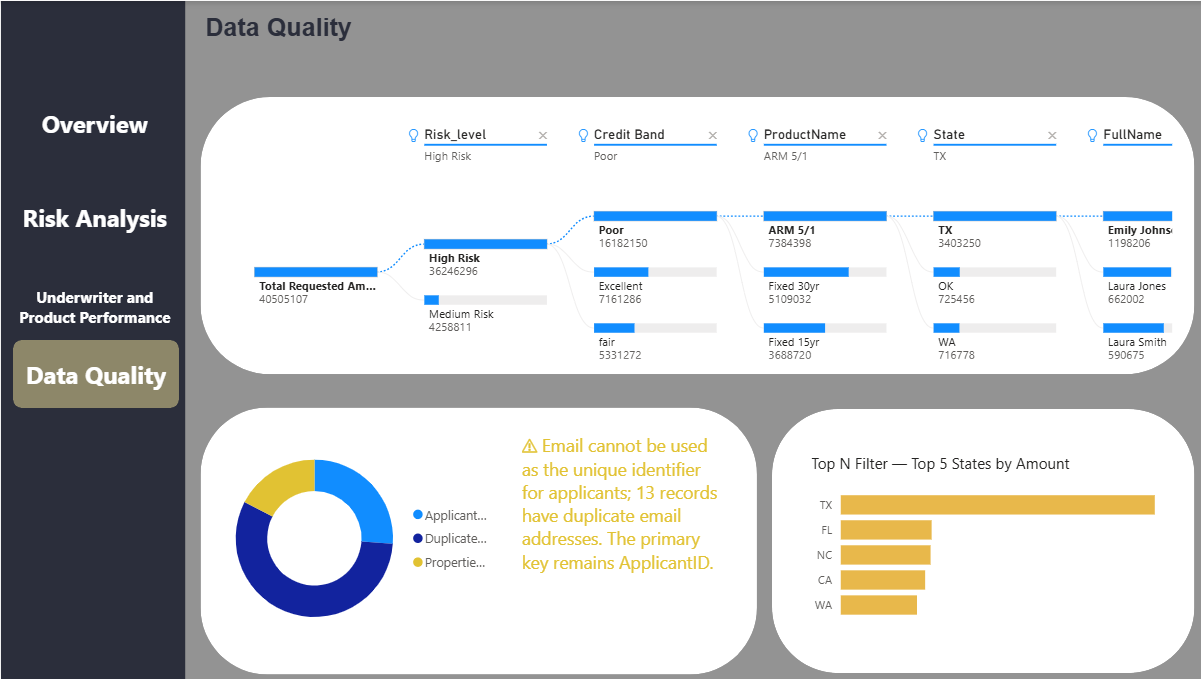

Layout of this report page (visuals, bound fields, positions):
{"tool":"powerbi","page":{"name":"Data Quality","canvas":[1280,720],"ordinal":3},"visuals":[{"type":"shape","box":[0,0,195.6,720.5],"z":0},{"type":"actionButton","box":[11.1,101.1,176.7,55.6],"z":1000},{"type":"actionButton","box":[11.7,201.7,176.7,55],"z":2000},{"type":"actionButton","box":[11.7,288.3,176.7,71.7],"z":3000},{"type":"textbox","title":"fdg","box":[212,4,496,44],"z":4000},{"type":"shape","box":[211.6,431.1,590.1,283.1],"z":5000},{"type":"actionButton","box":[12,360,176,72],"z":6000},{"type":"donutChart","fields":{"Y":["data_quality.Applicants Without Applications","data_quality.Duplicate Emails","data_quality.Properties Without Applications"]},"box":[222.7,427.9,308.6,283.1],"z":7000},{"type":"textbox","box":[547.2,453.3,227.5,230.6],"z":8000},{"type":"shape","box":[818,432,448,280],"z":9000},{"type":"clusteredBarChart","title":"Top N Filter — Top 5 States by Amount","fields":{"Category":["DimProperties.State"],"Y":["Mesures.Total Requested Amount"]},"box":[854,478,374,188],"z":10000},{"type":"shape","box":[212,102,1054,294],"z":11000},{"type":"decompositionTreeVisual","fields":{"Analyze":["Mesures.Total Requested Amount"],"ExplainBy":["FactApplications.Risk_level","DimApplicants.Credit Band","DimProducts.ProductName","DimProperties.State","DimApplicants.FullName"]},"box":[238,116,1008,268],"z":12000}]}

Visuals, with their boxes in screenshot pixels (x1, y1, x2, y2), scaled from the page's 1280x720 canvas onto the 1201x679 screenshot:
shape: 0:0:184:678
actionButton: 10:95:176:148
actionButton: 11:190:177:242
actionButton: 11:272:177:340
"fdg" textbox: 199:4:664:45
shape: 199:407:752:674
actionButton: 11:340:176:407
donutChart - data_quality.Applicants Without Applications x data_quality.Duplicate Emails: 209:404:499:671
textbox: 513:427:727:645
shape: 768:407:1188:671
"Top N Filter — Top 5 States by Amount" clusteredBarChart: 801:451:1152:628
shape: 199:96:1188:373
decompositionTreeVisual - Mesures.Total Requested Amount x FactApplications.Risk_level: 223:109:1169:362
